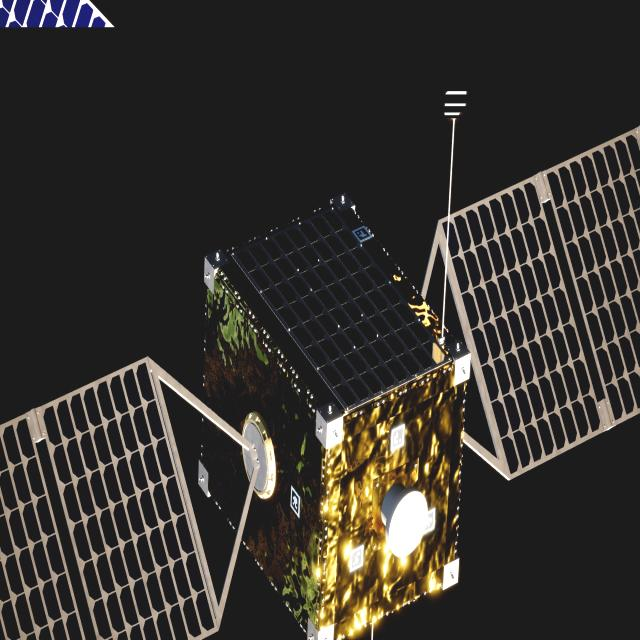medium_debris: (0, 127, 640, 640)
